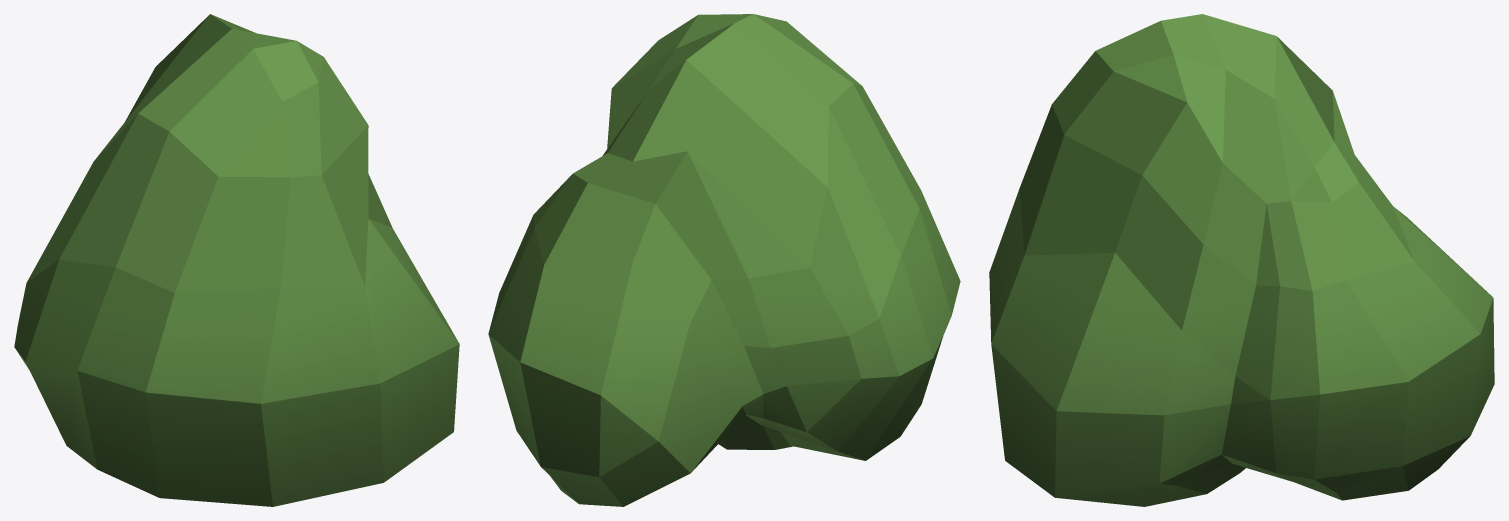
Rendered from Oak-Bush-04.fbx.
The picture shows the model from 3 angles, left to right: view 1: azimuth 30°, elevation 25°; view 2: azimuth 150°, elevation 25°; view 3: azimuth 270°, elevation 25°; orthographic projection. The views are drawn at different scales.
Visible parts, largest first — view 1: Oak-Bush-04; view 2: Oak-Bush-04; view 3: Oak-Bush-04.
Part boxes in pixels (<box>): Oak-Bush-04: <box>14,14,459,506</box>; Oak-Bush-04: <box>488,14,960,506</box>; Oak-Bush-04: <box>989,14,1494,506</box>.
Size of the model in its own units: 616 by 665 by 669.
Materials: 1 (1 with a texture image).
